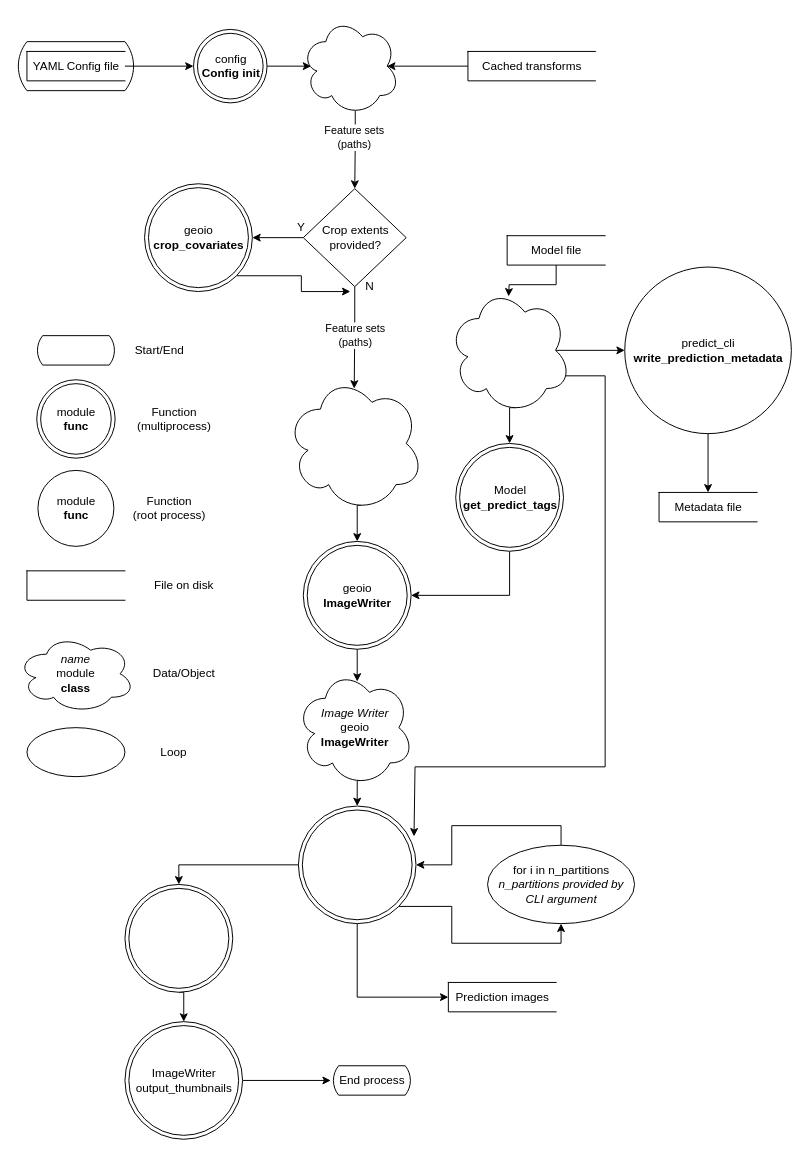
Image size: 809x1156. Some labels were removed from this diagram. The shapes that lost their labels are listed below. From the top down, each one's centre as x and y in pixels, then its label:
At pixel 349 65: "Config object".
At pixel 509 350: "Trained model models Model".
At pixel 354 443: "Image spec tuple of shape, bounding box, crs".
At pixel 356 864: "predict render_partition".
At pixel 178 937: "ImageWriter close".
